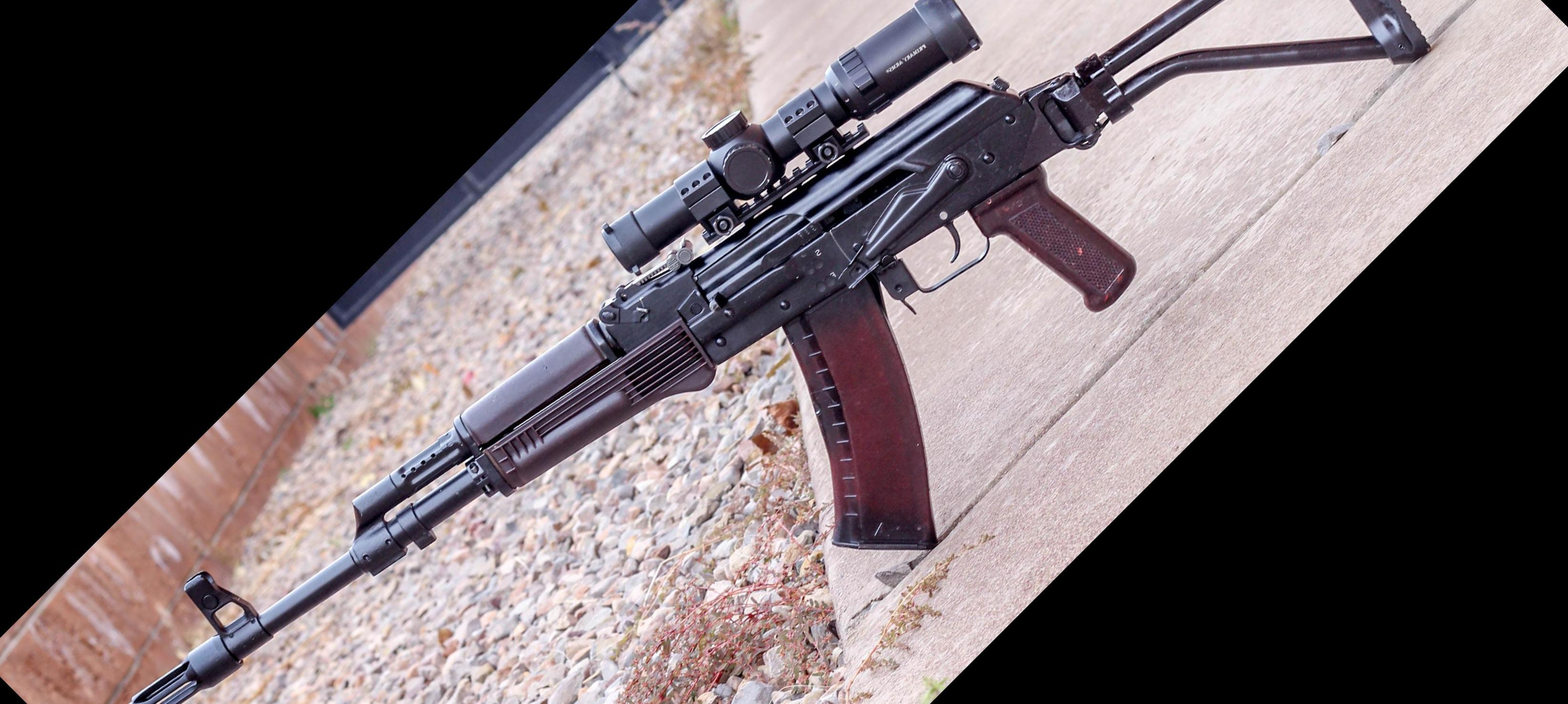larga: (129, 2, 1431, 704)
